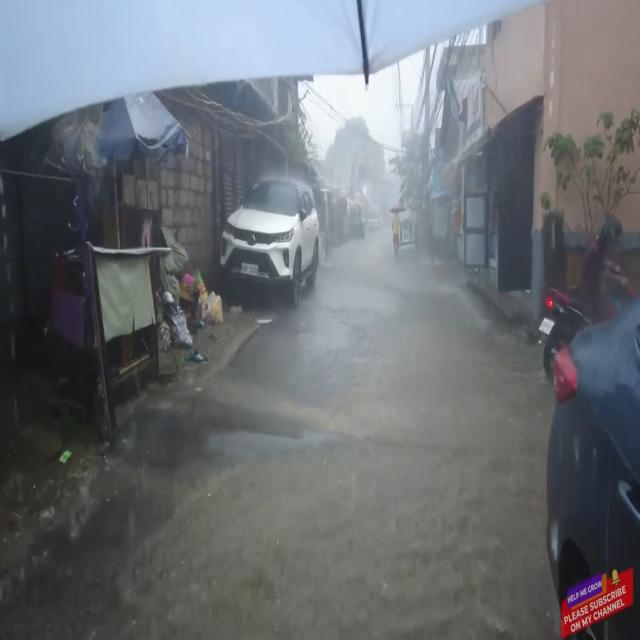full: (598, 214, 622, 248)
